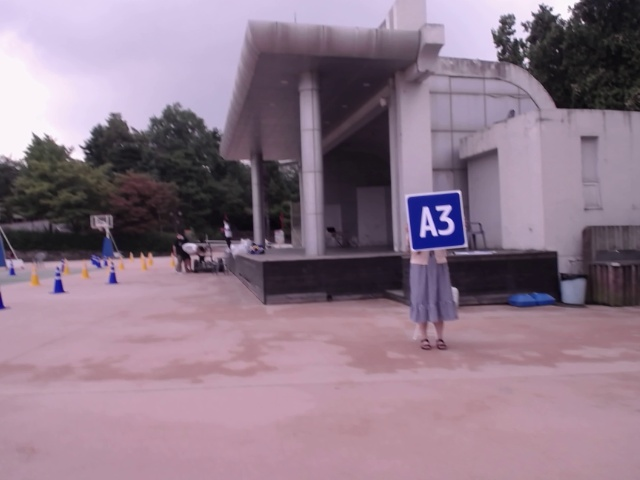delivery_a3: (406, 191, 467, 251)
